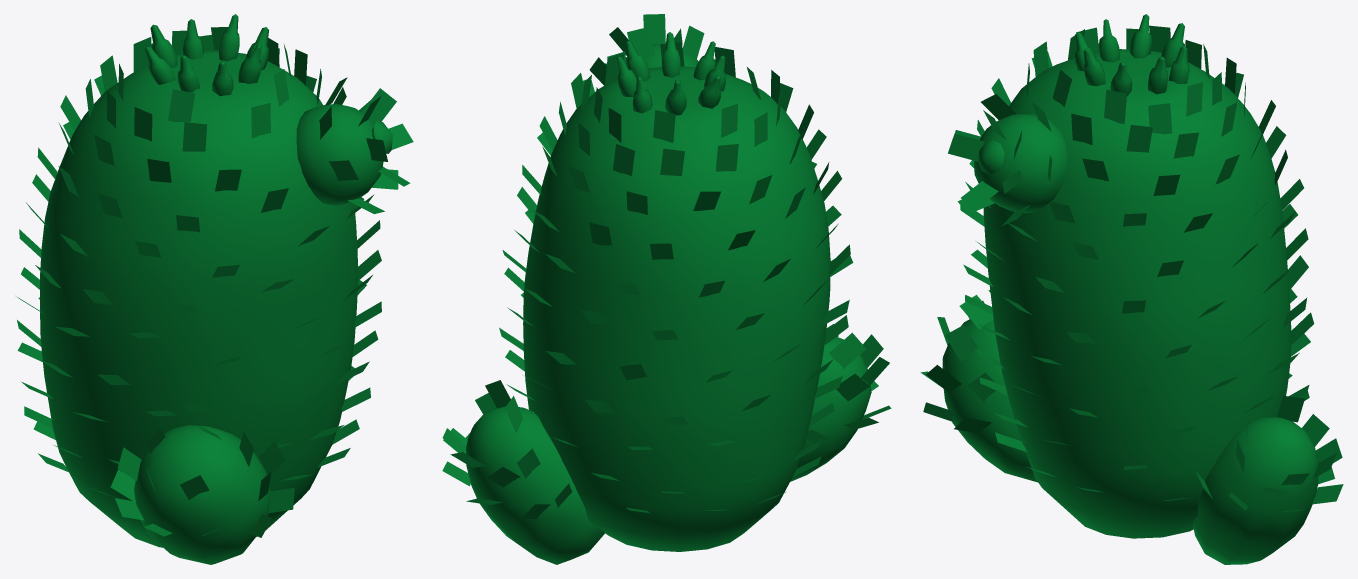
3 renders of one model, left to right at view 1: azimuth 30°, elevation 25°; view 2: azimuth 150°, elevation 25°; view 3: azimuth 270°, elevation 25°, orthographic. The views are drawn at different scales.
Parts seen in each view (by area): view 1: SM_Cactus_Barrel_LOD0; view 2: SM_Cactus_Barrel_LOD0; view 3: SM_Cactus_Barrel_LOD0.
Boxes of the visible parts, x1,y1,x2,y2 form: SM_Cactus_Barrel_LOD0: (16,14,413,564); SM_Cactus_Barrel_LOD0: (442,14,891,564); SM_Cactus_Barrel_LOD0: (920,14,1343,564).
Bounding box in the file's own units: 0.9682 × 1.42 × 1.1.
